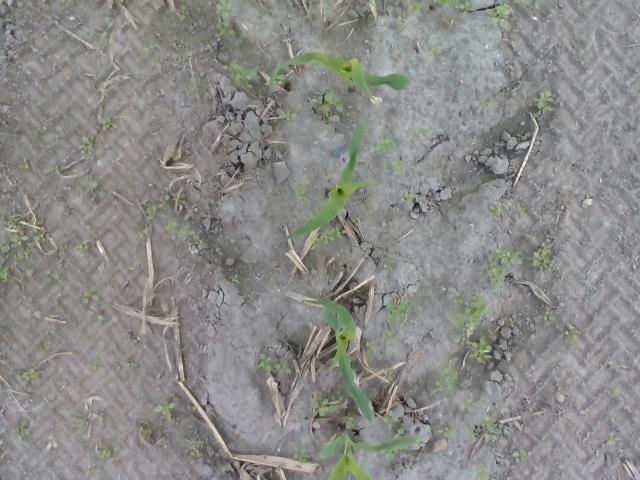Maize: (276, 120, 376, 246), (301, 298, 378, 426), (270, 50, 412, 100), (320, 431, 421, 480)
Weeds: (0, 218, 46, 286), (446, 292, 488, 333), (488, 248, 522, 290), (145, 192, 187, 222), (456, 337, 494, 364), (223, 60, 257, 88), (431, 359, 456, 393), (311, 395, 349, 416), (310, 92, 343, 116), (310, 227, 346, 249), (533, 241, 559, 271), (167, 220, 199, 244), (214, 1, 234, 39), (388, 298, 412, 326), (258, 354, 290, 374), (435, 0, 476, 14), (384, 410, 404, 436), (77, 412, 105, 429), (489, 3, 511, 24), (44, 260, 64, 281), (534, 90, 554, 110), (155, 402, 175, 422), (81, 286, 99, 306), (379, 138, 399, 154), (90, 180, 106, 199), (297, 182, 310, 204), (484, 414, 498, 434), (192, 440, 206, 460), (80, 135, 94, 155), (19, 368, 39, 382), (278, 109, 298, 122), (294, 448, 310, 464), (38, 334, 52, 352), (124, 332, 141, 346), (87, 309, 105, 322), (438, 427, 457, 439), (513, 450, 529, 464), (605, 432, 620, 446), (382, 255, 396, 270), (99, 119, 117, 130), (564, 328, 578, 342), (100, 448, 114, 462), (474, 467, 489, 480), (134, 228, 150, 240), (461, 398, 474, 412), (400, 192, 416, 203), (178, 5, 188, 22), (102, 23, 113, 38), (74, 240, 90, 250), (386, 331, 398, 343), (19, 422, 29, 435), (190, 77, 198, 92), (392, 162, 407, 170), (493, 206, 503, 218), (416, 128, 428, 137), (412, 3, 421, 13), (430, 44, 439, 54), (346, 419, 355, 429), (480, 99, 492, 106), (546, 312, 554, 322), (58, 244, 67, 252), (518, 206, 526, 215), (129, 360, 138, 368), (396, 16, 406, 23), (210, 202, 215, 206)
